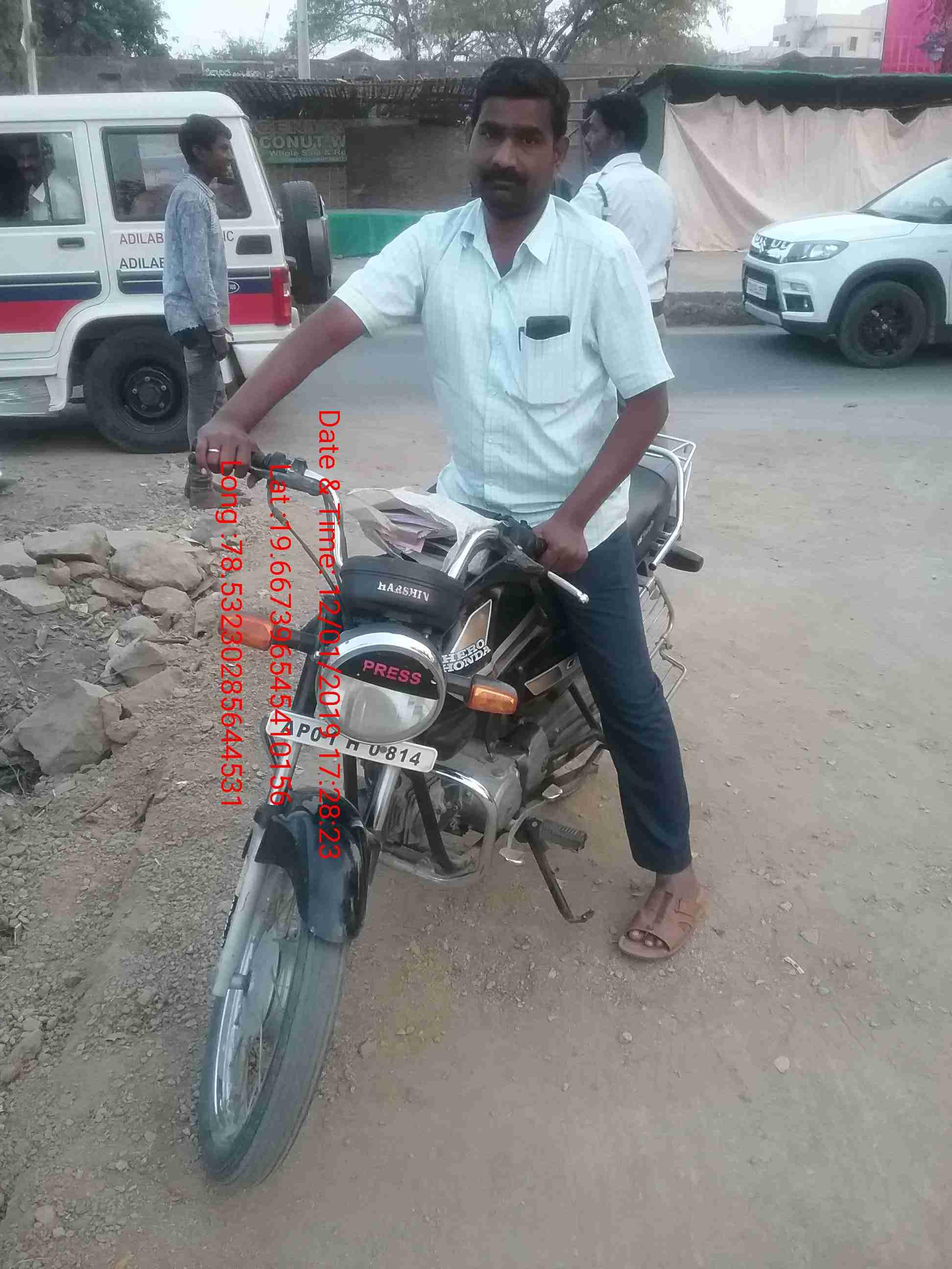plate: (262, 691, 443, 797)
